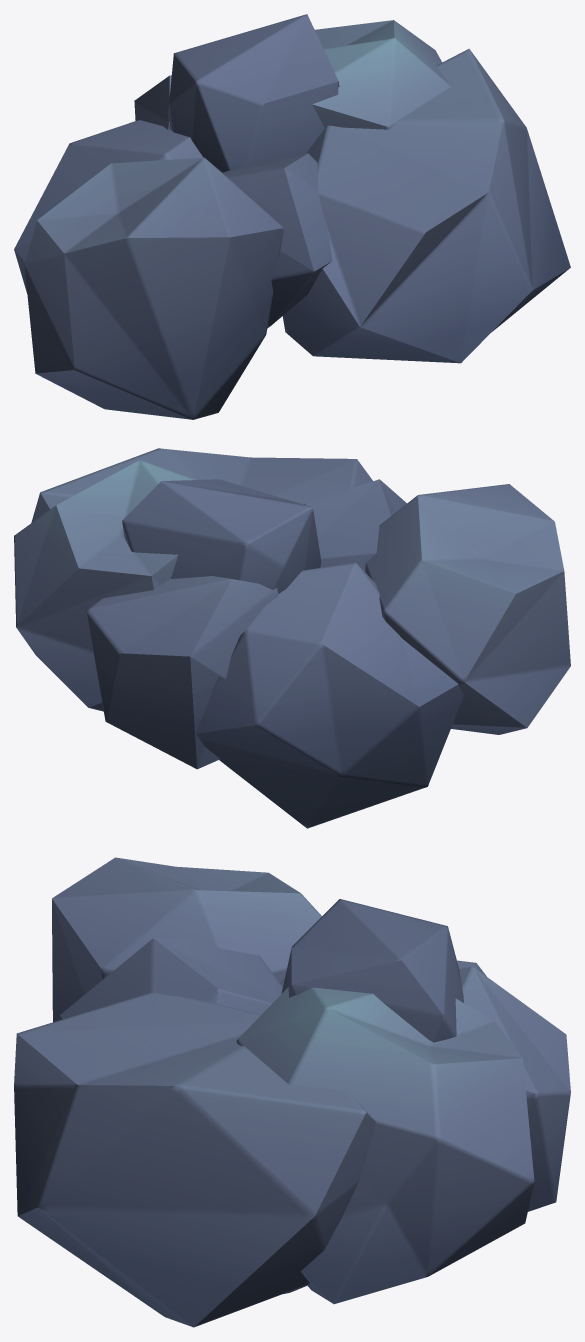
The model's file is StoneWall_4.fbx.
3 renders of one model, top to bottom at view 1: azimuth 30°, elevation 25°; view 2: azimuth 150°, elevation 25°; view 3: azimuth 270°, elevation 25°, orthographic. The views are drawn at different scales.
Visible parts, largest first — view 1: BigStone.002; view 2: BigStone.002; view 3: BigStone.002.
Boxes of the visible parts, x1,y1,x2,y2 form: BigStone.002: [14, 14, 570, 419]; BigStone.002: [14, 448, 570, 828]; BigStone.002: [14, 857, 570, 1327].
Bounding box in the file's own units: 1656 × 1009 × 1314.
Materials: 1 (1 with a texture image).
